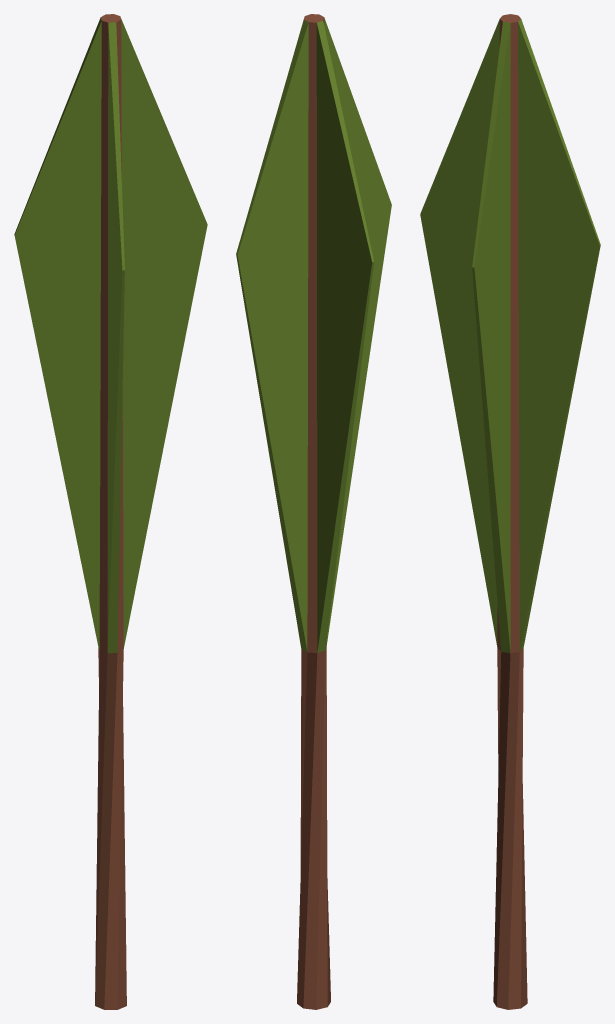
Rendered from Tree_29_autumn_mat.fbx.
3 views of the same model, side by side, from view 1: azimuth 30°, elevation 25°; view 2: azimuth 150°, elevation 25°; view 3: azimuth 270°, elevation 25° (orthographic).
Visible parts, largest first — view 1: Tree_29_autumn_mat; view 2: Tree_29_autumn_mat; view 3: Tree_29_autumn_mat.
Part boxes in pixels (x1,y1,x2,y2): Tree_29_autumn_mat: (14, 14, 207, 1009); Tree_29_autumn_mat: (236, 14, 391, 1009); Tree_29_autumn_mat: (420, 14, 600, 1009).
Size of the model in its own units: 1.96 by 11.78 by 1.96.
